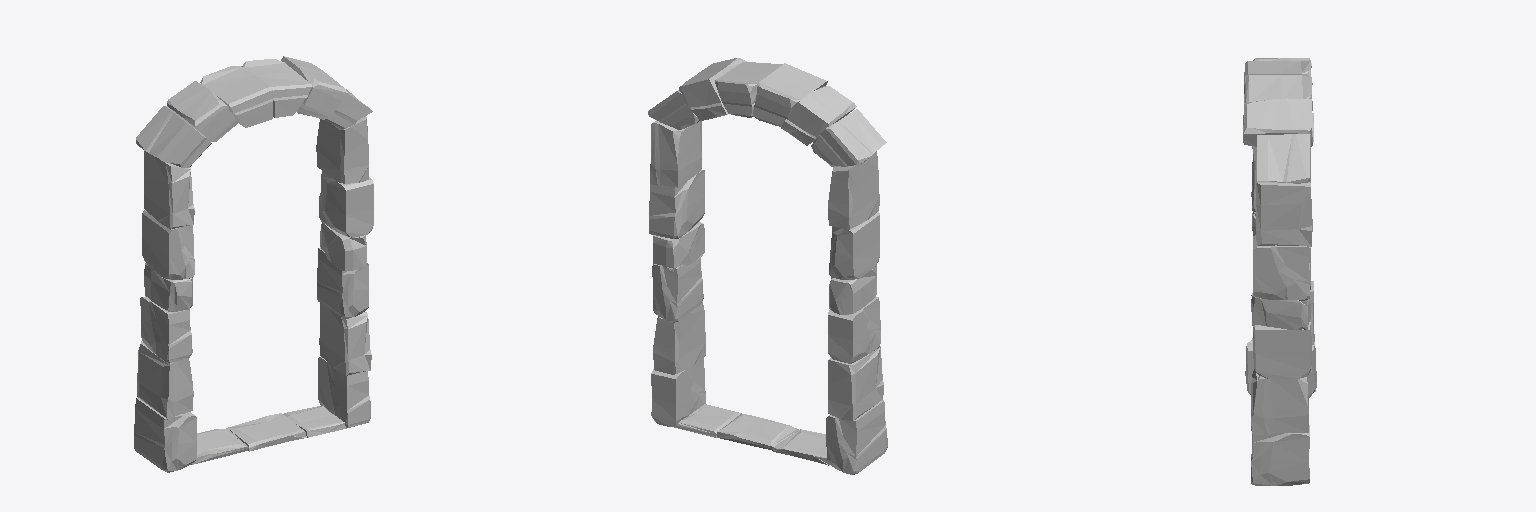
The model's file is DoorFrame_Round_Brick.obj.
3 views of the same model, side by side, from view 1: azimuth 30°, elevation 25°; view 2: azimuth 150°, elevation 25°; view 3: azimuth 270°, elevation 25° (orthographic).
Visible parts, largest first — view 1: DoorFrame_Round_Brick; view 2: DoorFrame_Round_Brick; view 3: DoorFrame_Round_Brick.
Boxes of the visible parts, x1=… form: DoorFrame_Round_Brick: x1=134, y1=56, x2=373, y2=472; DoorFrame_Round_Brick: x1=648, y1=58, x2=887, y2=474; DoorFrame_Round_Brick: x1=1243, y1=58, x2=1316, y2=485.
Bounding box in the file's own units: 1.6 × 2.59 × 0.4772.